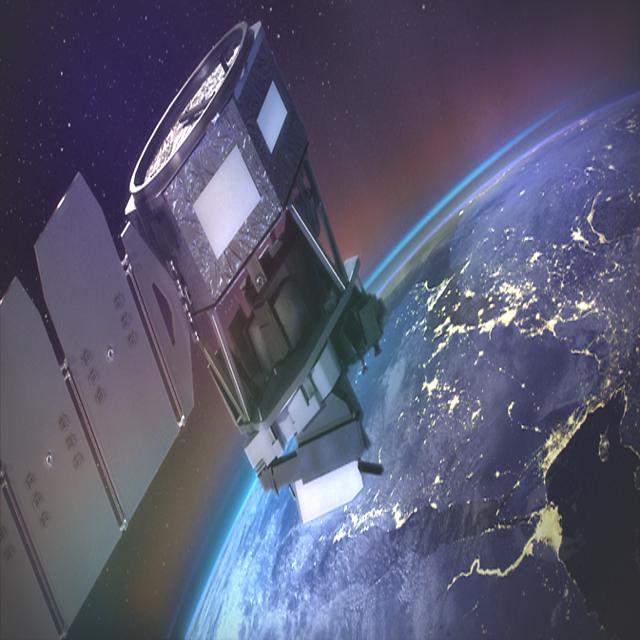medium_debris: (0, 5, 392, 634)
